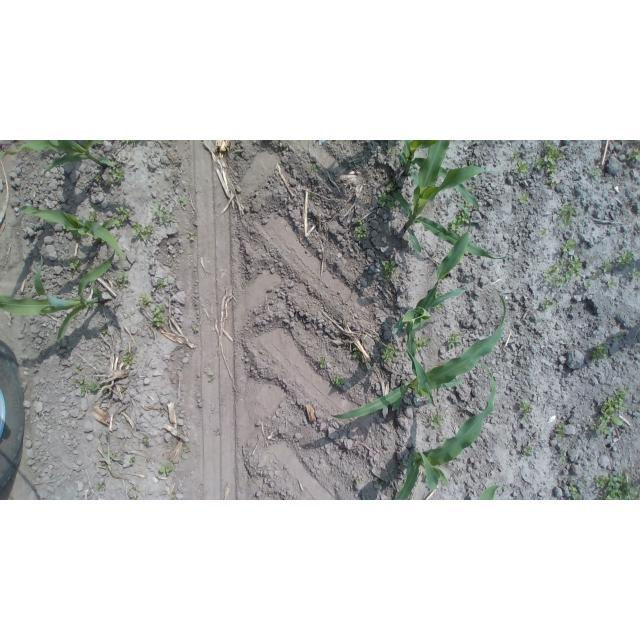Maize: (327, 291, 509, 422), (389, 215, 478, 406), (390, 357, 498, 500), (393, 142, 511, 267), (1, 246, 119, 344), (396, 141, 488, 220), (20, 199, 133, 258), (0, 140, 118, 176), (476, 482, 504, 500)
Weeds: (593, 387, 631, 437), (594, 469, 640, 500), (540, 258, 582, 291), (533, 143, 564, 173), (375, 182, 401, 212), (452, 200, 472, 232), (556, 202, 577, 228), (153, 202, 177, 224), (131, 221, 154, 242), (108, 161, 127, 186), (114, 207, 135, 229), (381, 259, 398, 285), (567, 477, 586, 499), (591, 342, 609, 364), (517, 397, 532, 423), (153, 305, 168, 329), (444, 333, 465, 350), (353, 217, 369, 239), (520, 439, 536, 460), (155, 461, 177, 476), (112, 271, 131, 287), (80, 383, 101, 397), (560, 237, 576, 255), (414, 336, 430, 354), (553, 422, 569, 440), (430, 410, 443, 431), (516, 190, 532, 206), (379, 345, 395, 361), (127, 485, 144, 500), (597, 257, 612, 273), (136, 293, 152, 308), (619, 249, 632, 267), (555, 449, 569, 465), (515, 161, 528, 177), (627, 147, 640, 163), (330, 373, 344, 387), (121, 350, 134, 365), (69, 257, 82, 272), (591, 168, 604, 182), (350, 347, 363, 361), (153, 278, 170, 288), (186, 230, 199, 243), (316, 355, 328, 369), (625, 269, 640, 280), (88, 209, 100, 222), (547, 176, 559, 188), (207, 371, 218, 384), (141, 435, 151, 449), (353, 474, 365, 485), (310, 190, 322, 201), (183, 441, 192, 455), (179, 196, 189, 208), (584, 278, 593, 291), (71, 377, 85, 385), (94, 173, 104, 184), (512, 153, 522, 164), (542, 299, 553, 309), (191, 325, 202, 335), (539, 229, 549, 240), (98, 482, 108, 492), (128, 455, 138, 465), (605, 281, 619, 288), (213, 426, 222, 436), (311, 164, 320, 174), (375, 481, 386, 488), (470, 186, 475, 195), (389, 147, 395, 154)
